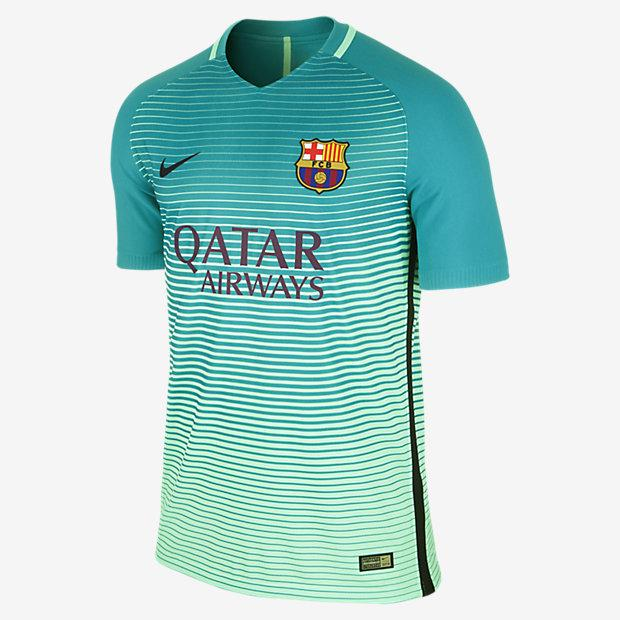teeshirt: (86, 8, 510, 620)
